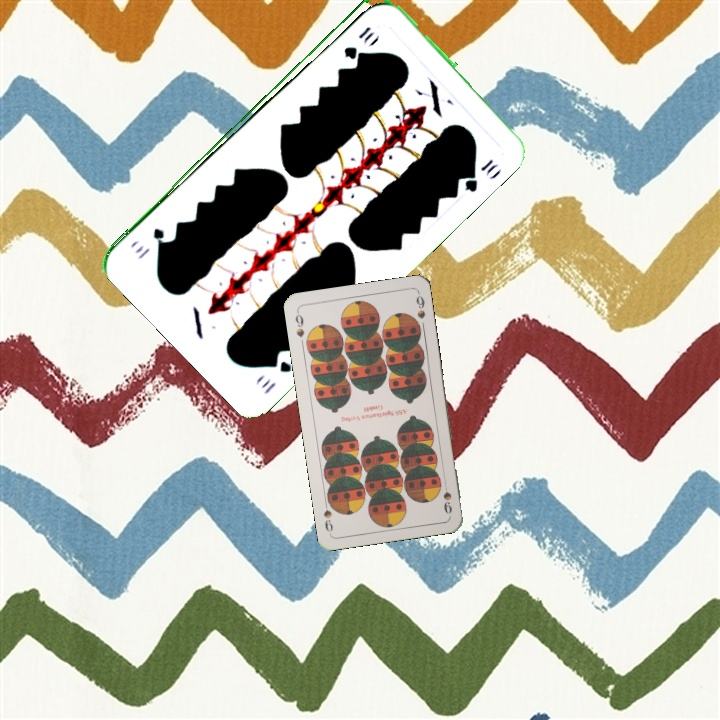G10: (258, 352, 294, 397), (339, 22, 376, 61)
S9: (439, 476, 454, 516), (291, 307, 307, 340)
